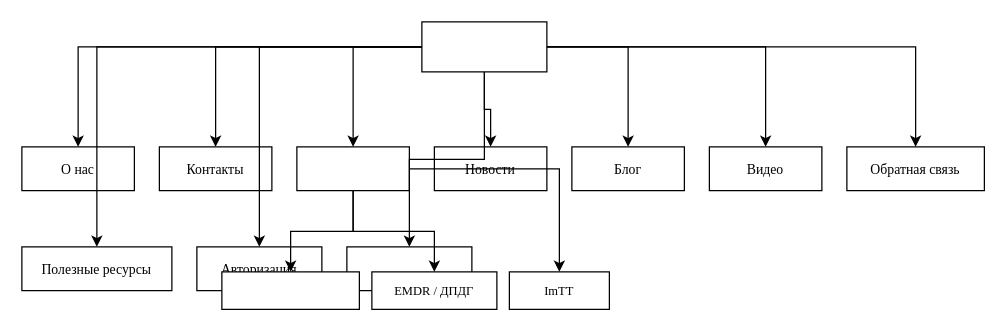
This 1006x331 diagram has some shape labels left out. Each missing label, with the box of its shape:
Главная: (421, 21, 547, 72)
Каталог: (296, 146, 409, 191)
КПТ при тревоге: (221, 271, 359, 309)
Регистрация: (346, 246, 472, 291)
